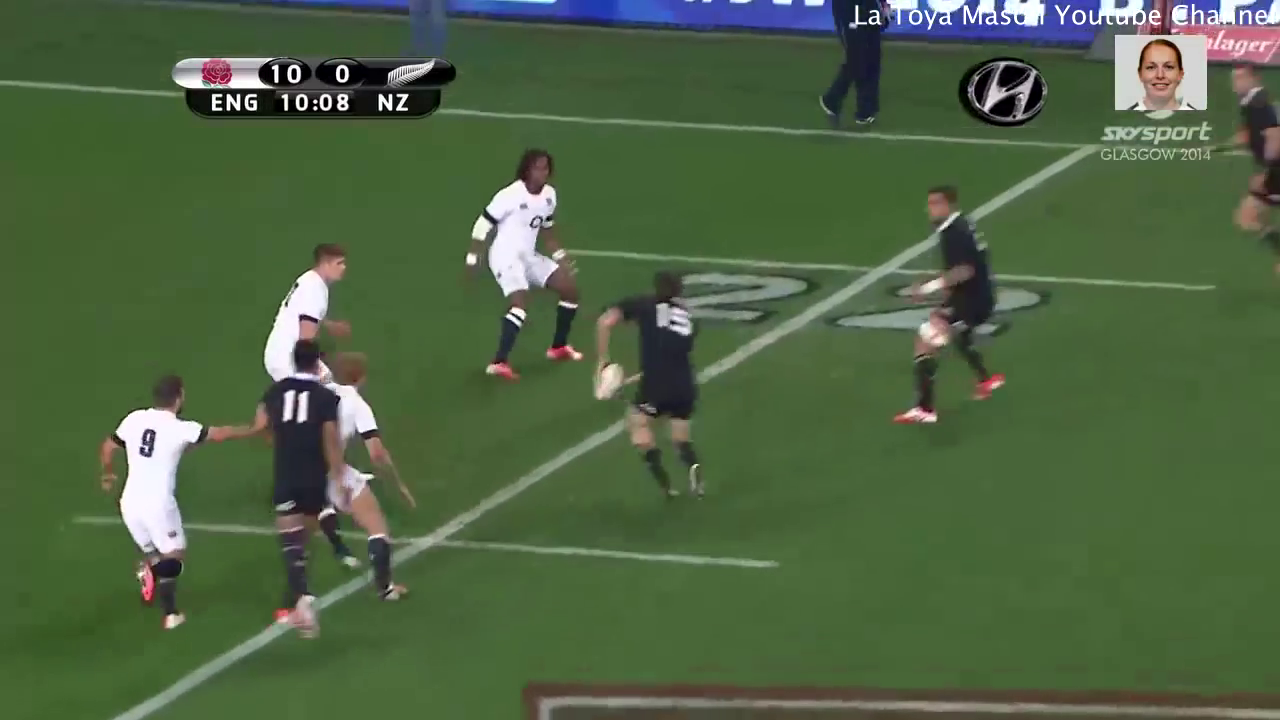ball: (588, 344, 625, 408)
player: (97, 364, 270, 643), (584, 253, 720, 525), (453, 134, 586, 383), (882, 176, 1006, 440), (249, 336, 345, 643), (317, 343, 421, 621), (238, 232, 365, 387), (1205, 58, 1280, 256)
